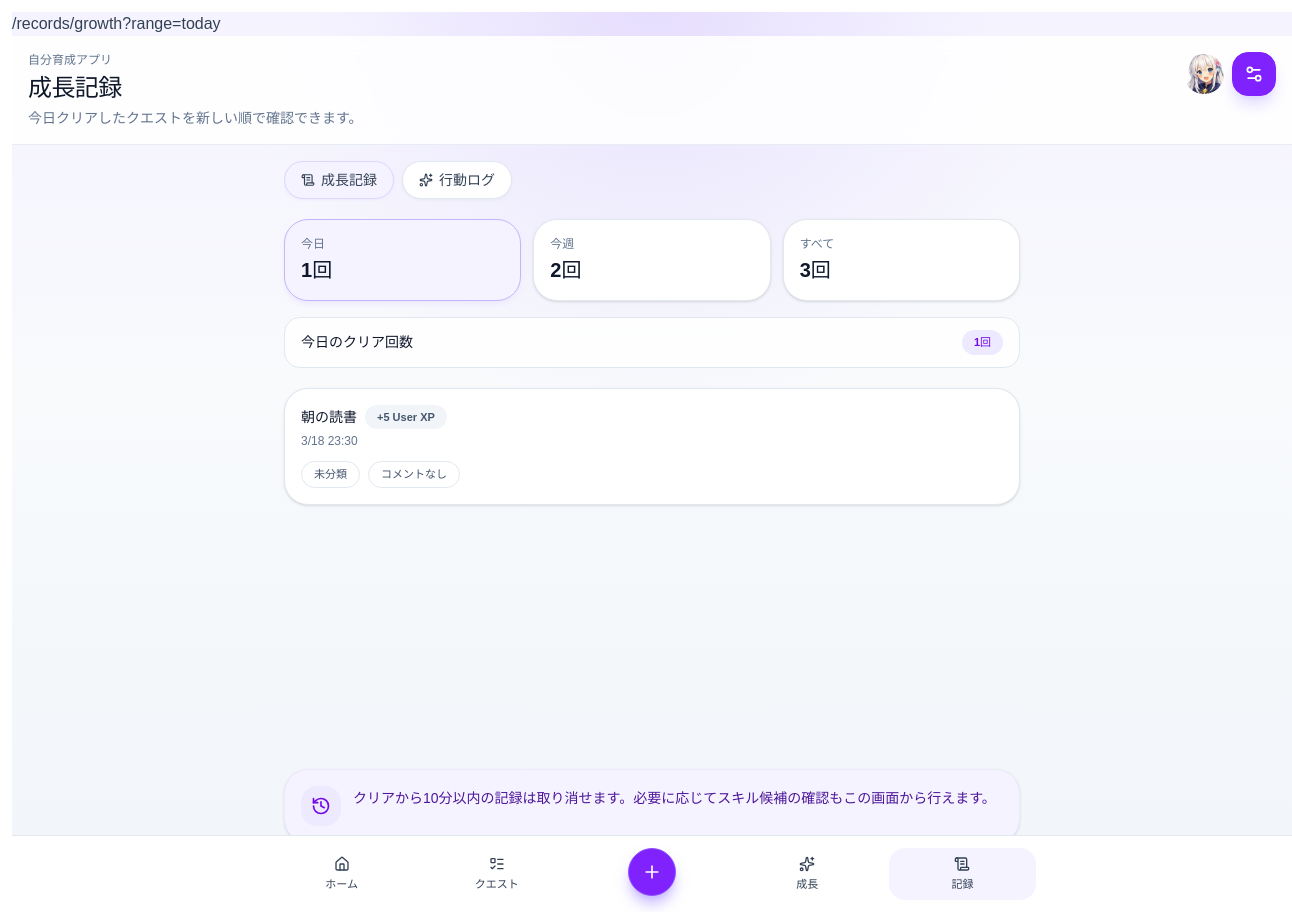
Test: records screen filters › updates both the URL and the list when a filter card is tapped
Click the button with aria-label "すべてのクリア回数を表示": [901, 260] box [783,219,1020,301]
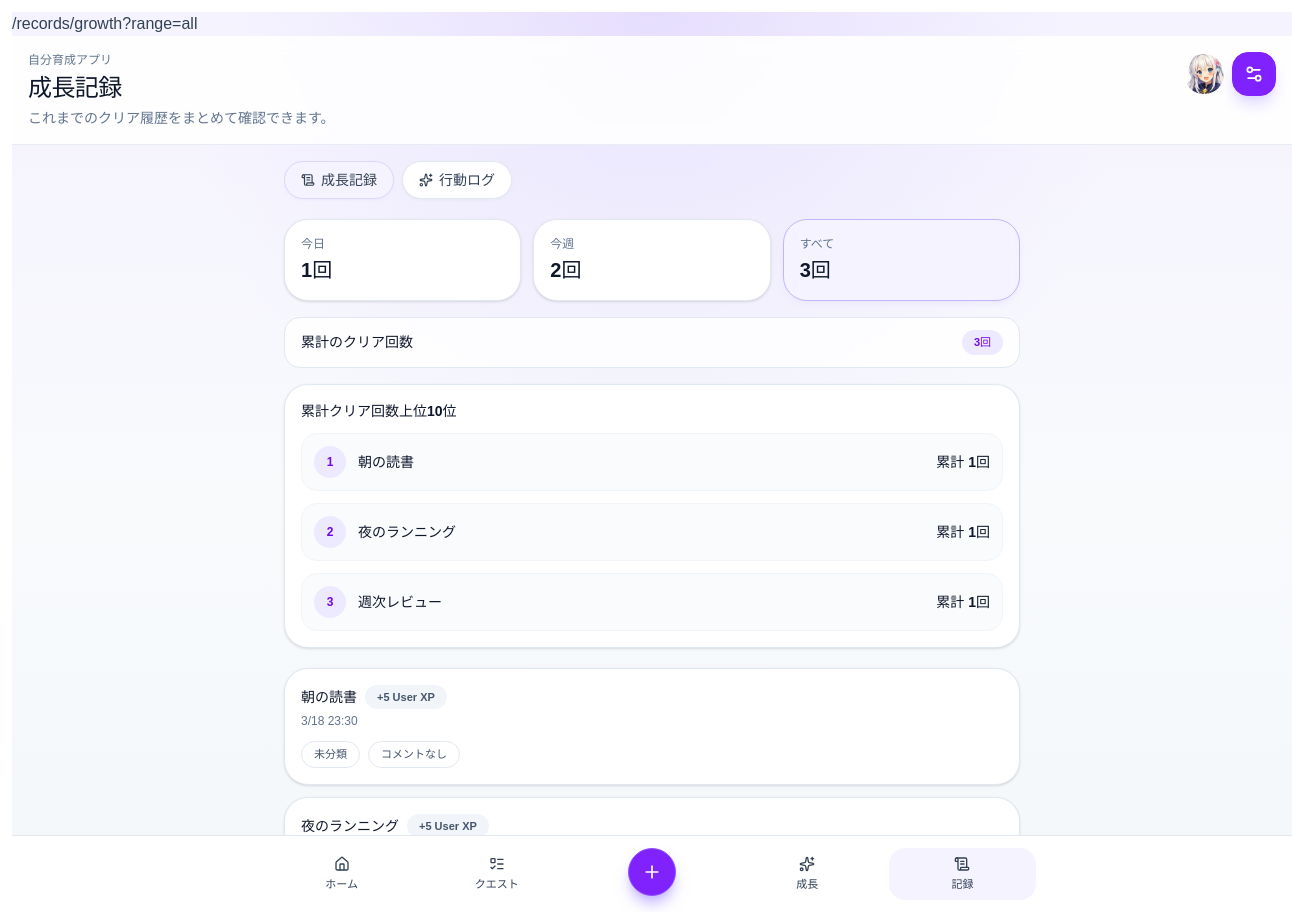
Check: the text with test id "location" reads "/records/growth?range=all", box [12,15,197,32]
Check: the text "朝の読書" below "累計クリア回数上位10位" is shown, box [358,454,414,470]
Check: the text "夜のランニング" below "累計クリア回数上位10位" is shown, box [358,524,456,540]
